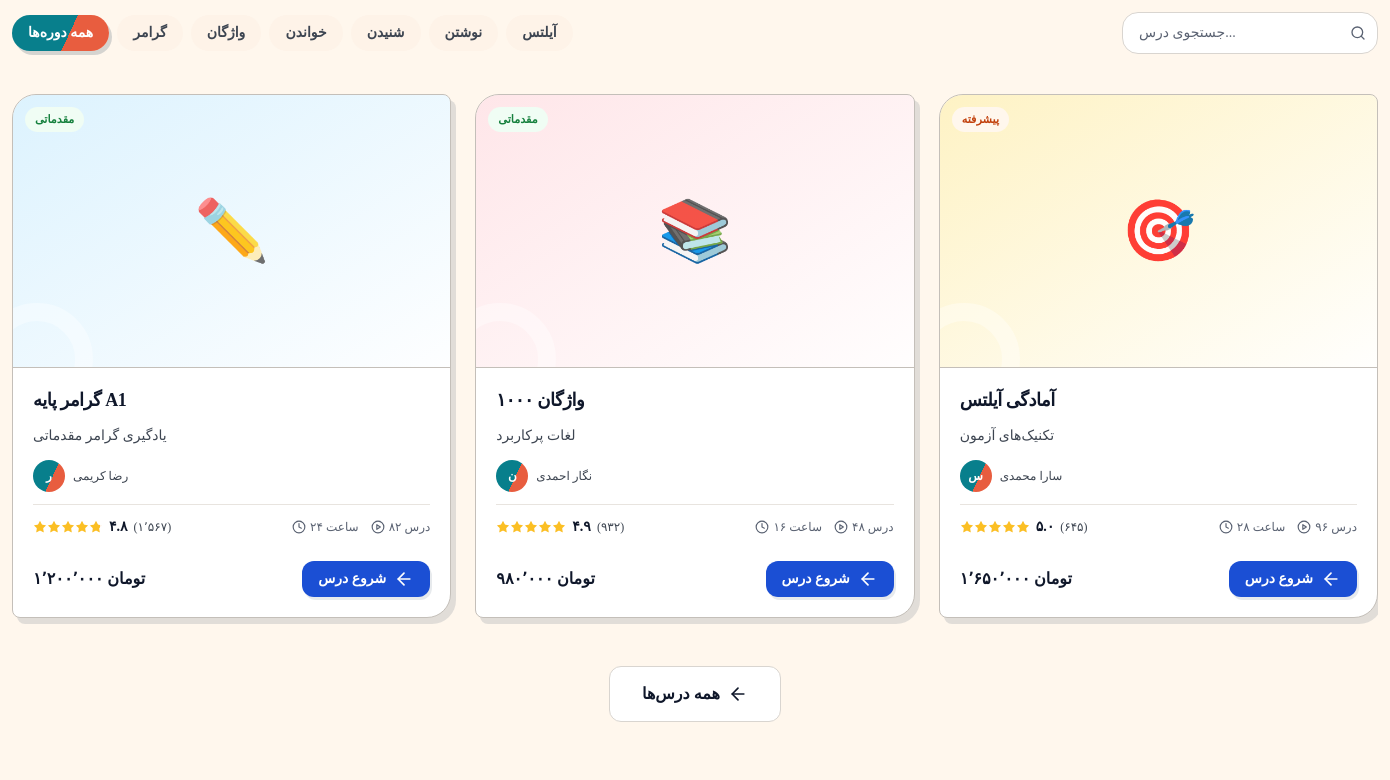
Test: PopularCoursesClient › filters courses by category when a tab is clicked
This screenshot has width=1390, height=780.
Note: Click on "گرامر" tab
Click the tab "گرامر" at (150, 33), box [117,15,183,51]
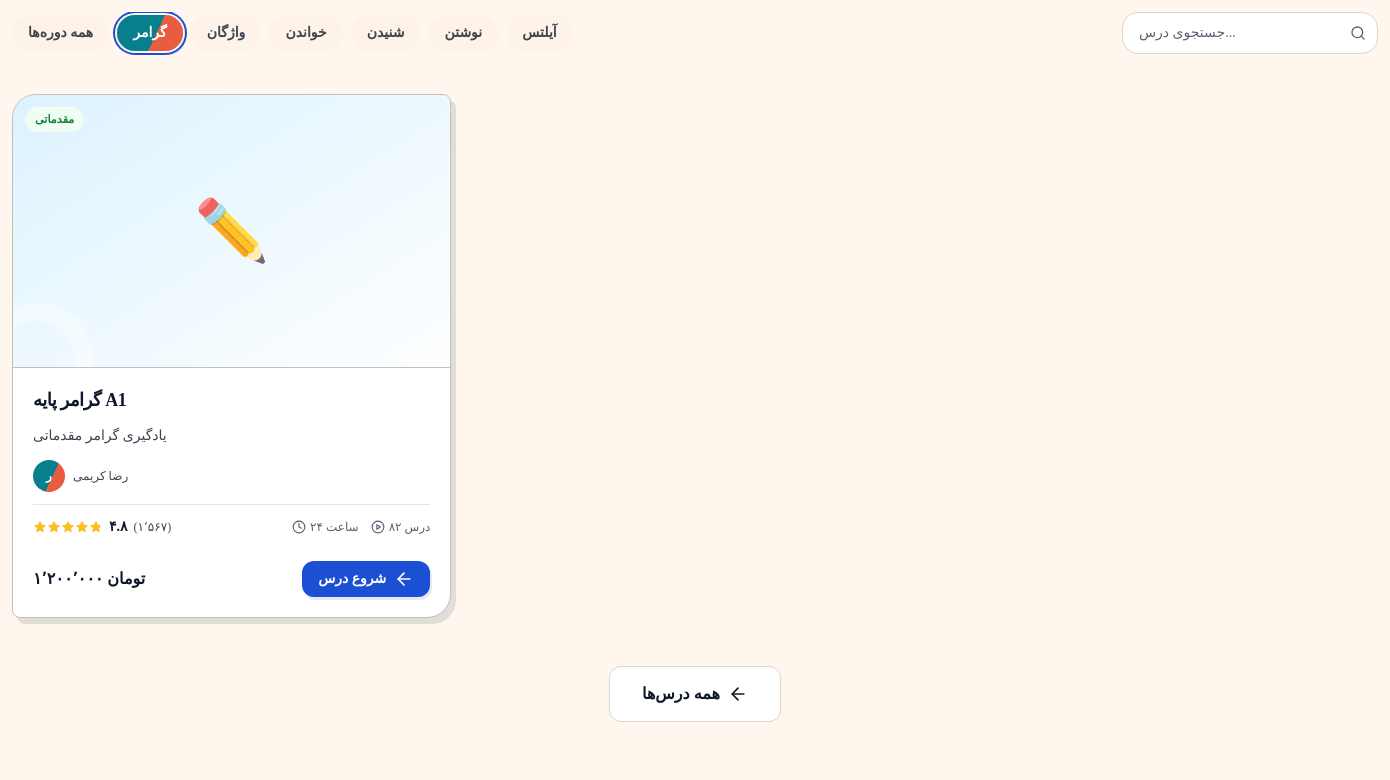
Expected: the heading "گرامر پایه A1" is shown, [33,390,126,410]
Expected: the heading "واژگان ۱۰۰۰" is gone
Expected: the heading "آمادگی آیلتس" is gone
